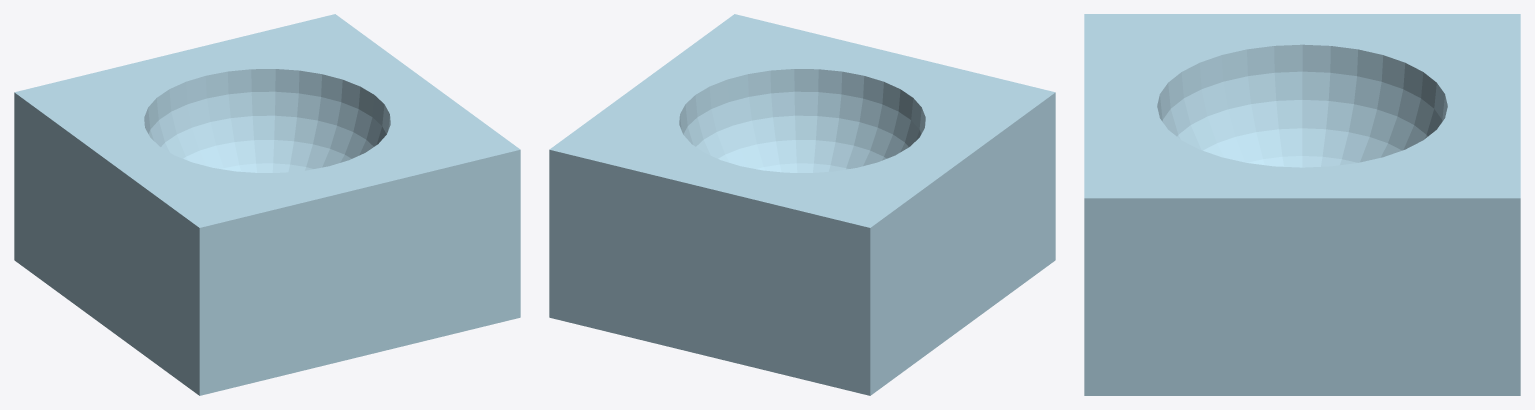
The model's file is Bathtub.fbx.
3 views of the same model, side by side, from view 1: azimuth 30°, elevation 25°; view 2: azimuth 150°, elevation 25°; view 3: azimuth 270°, elevation 25° (orthographic). The views are drawn at different scales.
Parts seen in each view (by area): view 1: Cube; view 2: Cube; view 3: Cube.
Part boxes in pixels (<box>): Cube: <box>14,14,520,395</box>; Cube: <box>549,14,1055,395</box>; Cube: <box>1084,14,1520,395</box>.
Bounding box in the file's own units: 300 × 150 × 300.
